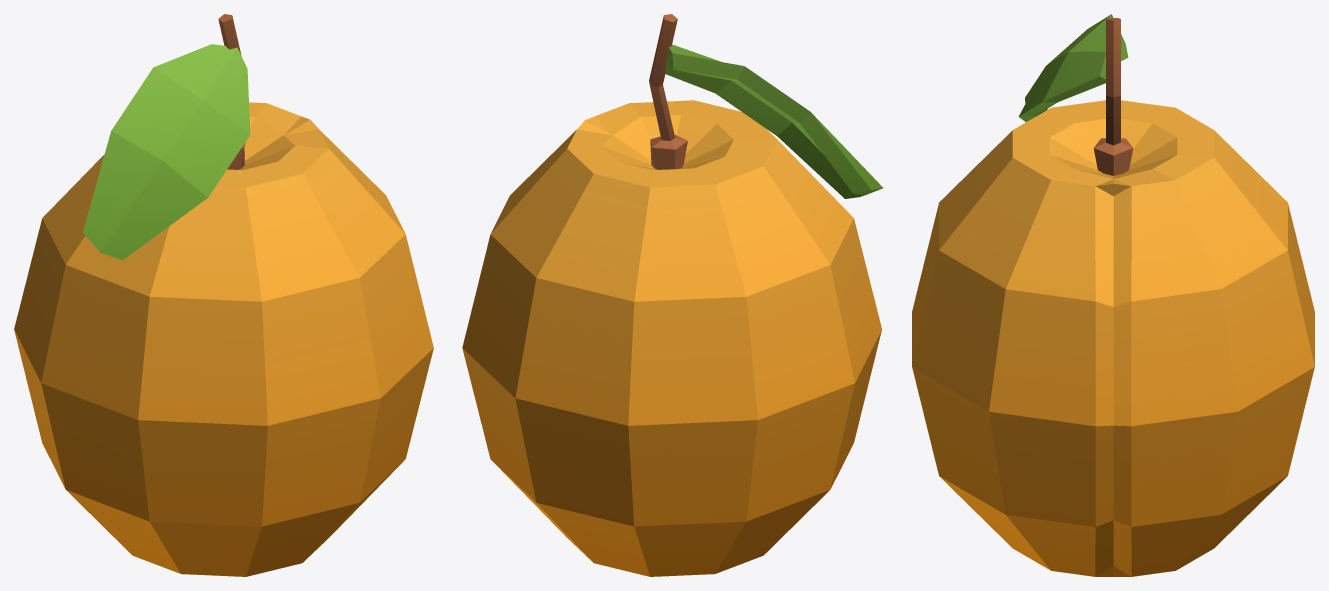
File: Apricot.fbx
3 renders of one model, left to right at view 1: azimuth 30°, elevation 25°; view 2: azimuth 150°, elevation 25°; view 3: azimuth 270°, elevation 25°, orthographic.
Visible parts, largest first — view 1: Apricot; view 2: Apricot; view 3: Apricot.
Boxes of the visible parts, box(x1,y1,x2,y2) form: Apricot: box(14, 14, 433, 576); Apricot: box(462, 14, 883, 576); Apricot: box(912, 14, 1314, 576).
Bounding box in the file's own units: 11.52 × 16.1 × 11.11.
